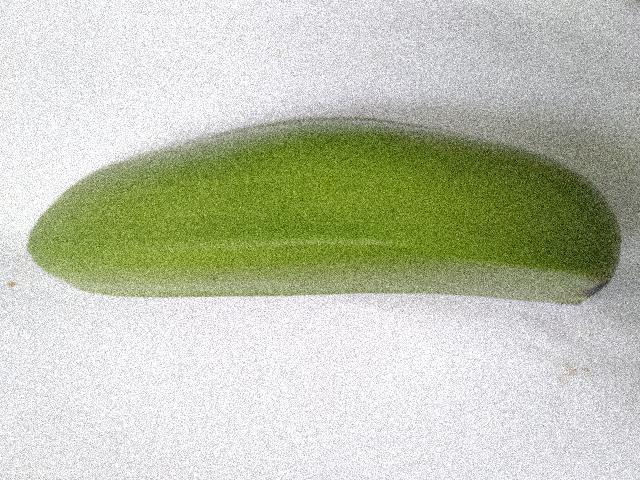freshunripe: (9, 103, 627, 330)
